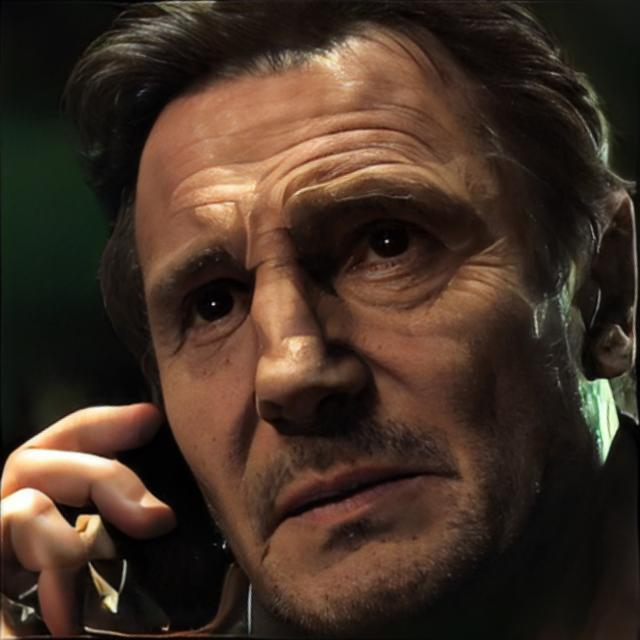sad: (138, 45, 547, 614)
